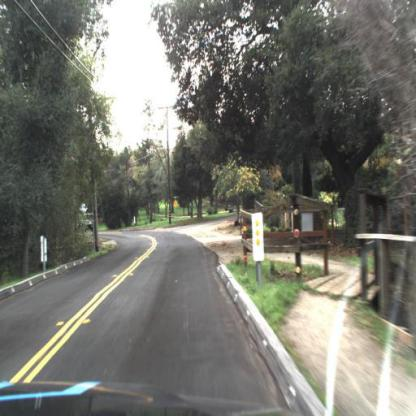car: (78, 209, 96, 236)
